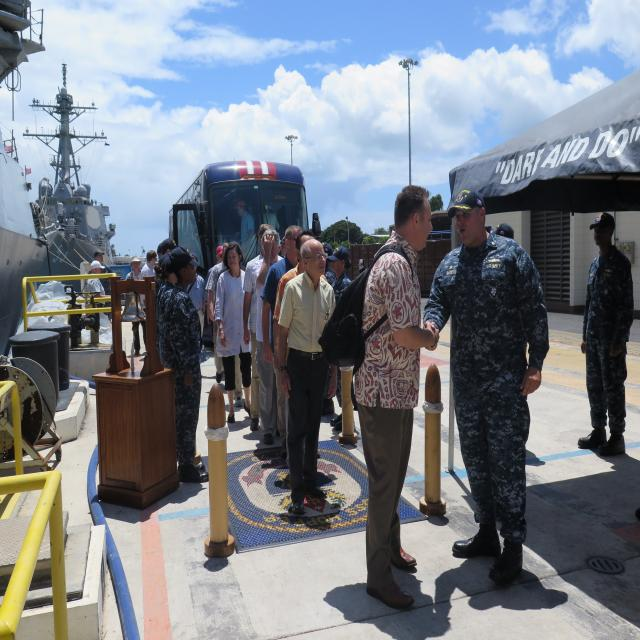body: (317, 182, 442, 615), (422, 187, 550, 585), (277, 238, 338, 516), (577, 209, 635, 458), (271, 229, 330, 464), (161, 245, 211, 485), (259, 224, 303, 459), (242, 222, 286, 432), (213, 241, 252, 424), (215, 240, 256, 410), (252, 228, 284, 445), (308, 240, 338, 418), (327, 246, 355, 432), (206, 244, 242, 375), (204, 243, 233, 384), (156, 254, 179, 370), (124, 256, 147, 356), (87, 249, 113, 323), (186, 252, 208, 338), (154, 253, 172, 354), (258, 188, 306, 225), (86, 260, 111, 323), (155, 250, 170, 350), (233, 200, 256, 264), (154, 242, 163, 355), (141, 249, 157, 280), (494, 219, 518, 239), (160, 236, 178, 257)
